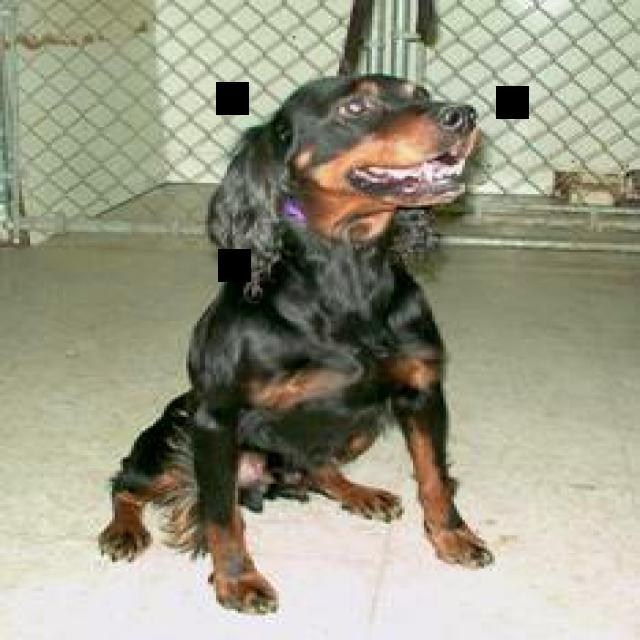adult_dog: (86, 64, 515, 623)
